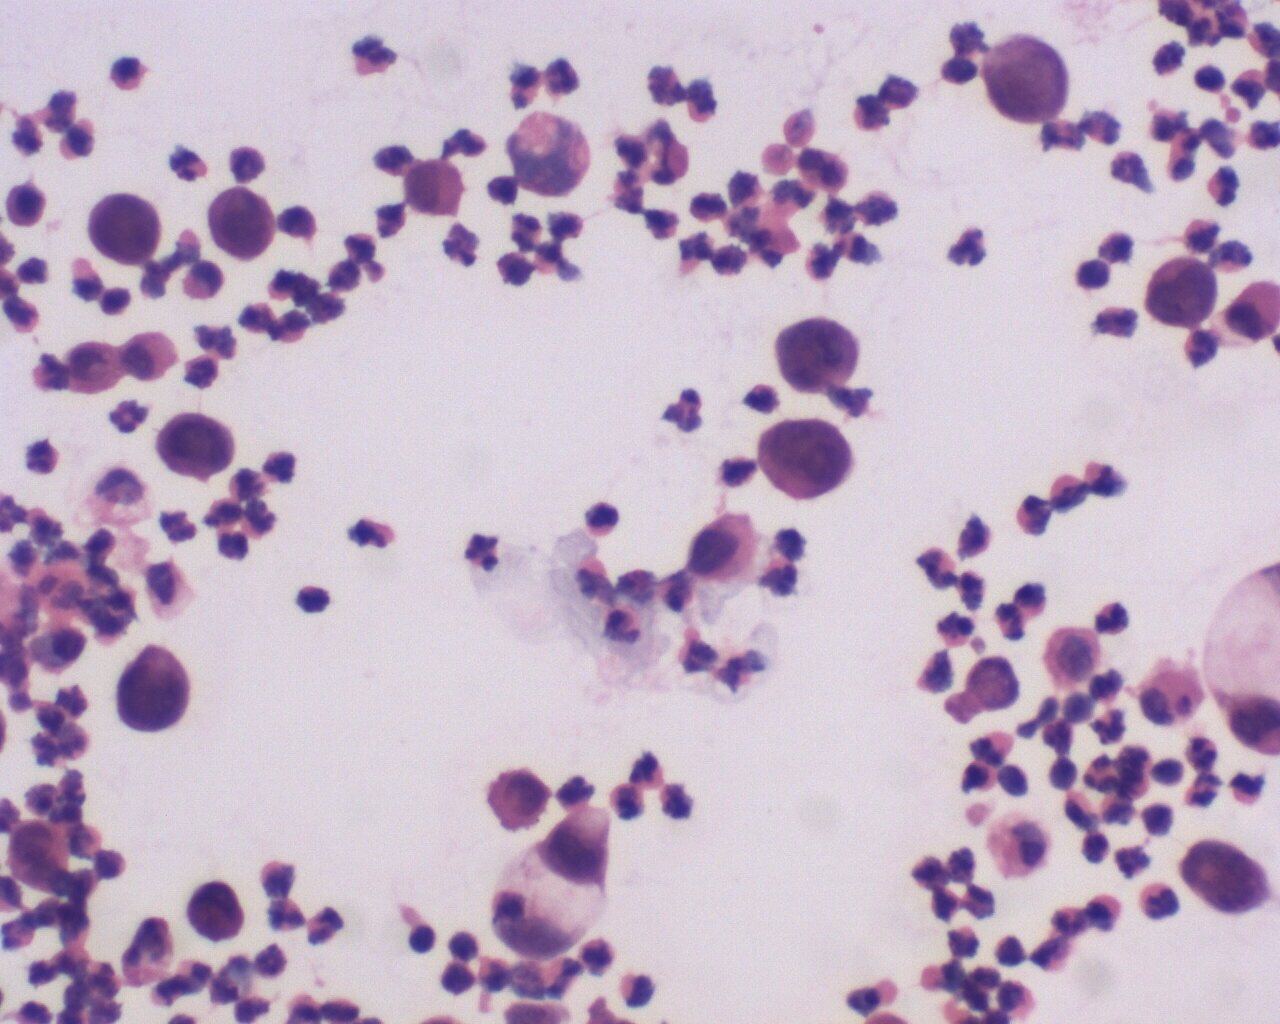ab: (979, 33, 1078, 126), (1174, 834, 1274, 922), (768, 313, 868, 399), (757, 415, 855, 499), (114, 642, 196, 738), (83, 187, 170, 270), (155, 409, 240, 485), (209, 185, 284, 266), (1141, 253, 1217, 330), (180, 879, 253, 945)
lymph: (1075, 252, 1115, 294), (403, 920, 436, 958)
meso: (117, 327, 185, 385), (6, 179, 49, 231)
neutro: (605, 779, 653, 828), (577, 496, 621, 541), (166, 143, 211, 187), (1094, 596, 1133, 645), (460, 530, 503, 573), (107, 399, 154, 437), (1201, 164, 1242, 205), (254, 938, 289, 982)
